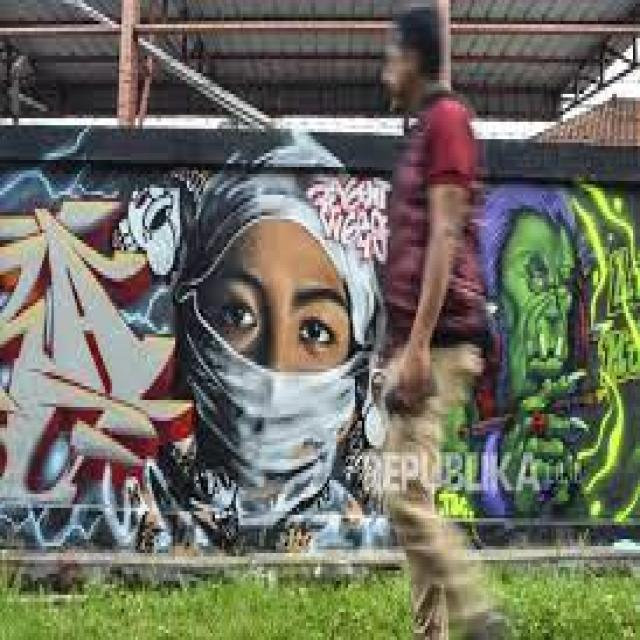-: (0, 162, 640, 552)
